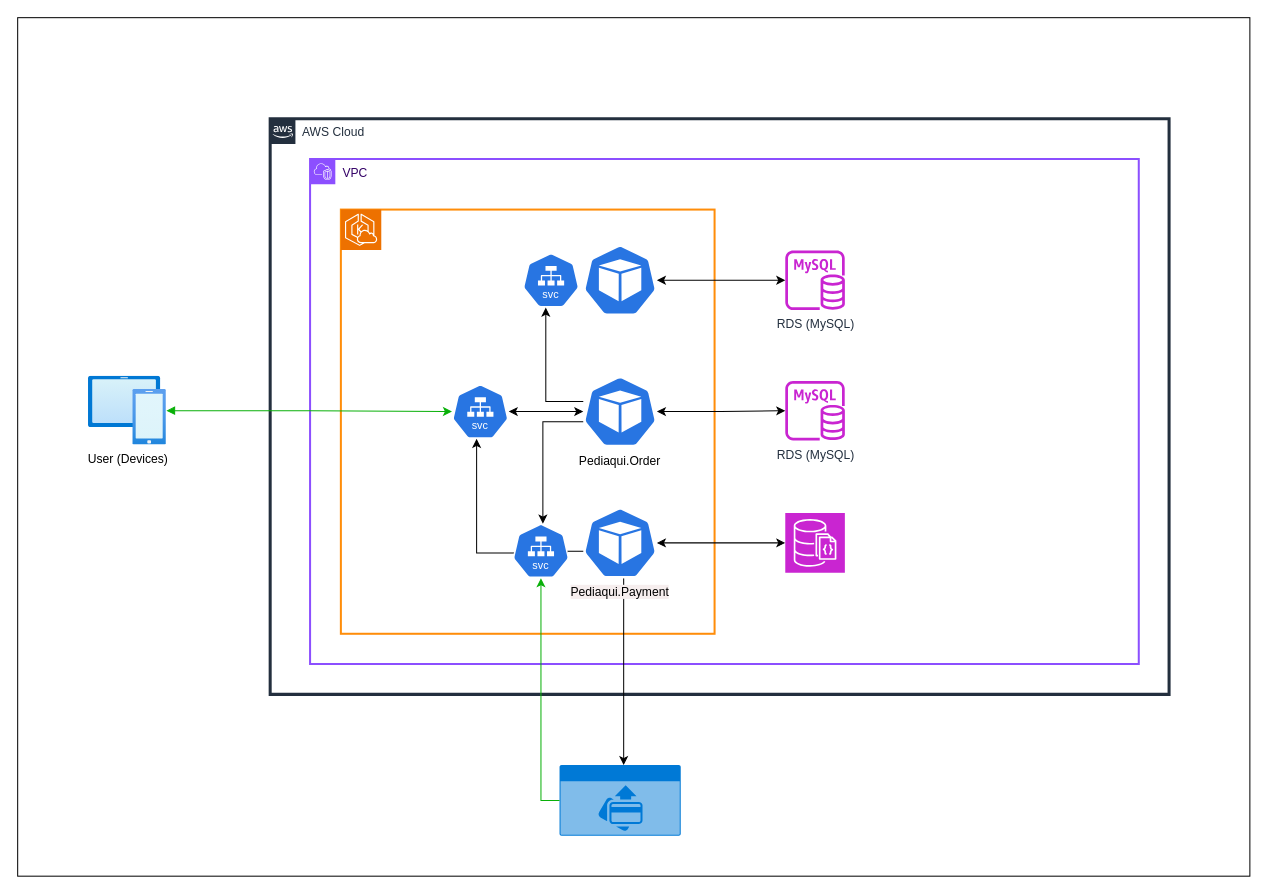
Image size: 1268x894. Some labels were removed from this diagram. Here are the shapes that lost their labels. From the top down, the centre of each, then its label:
pixel 619 280: Pediaqui.Catalog
pixel 814 542: Amazon Document DB
pixel 619 800: External Payment
